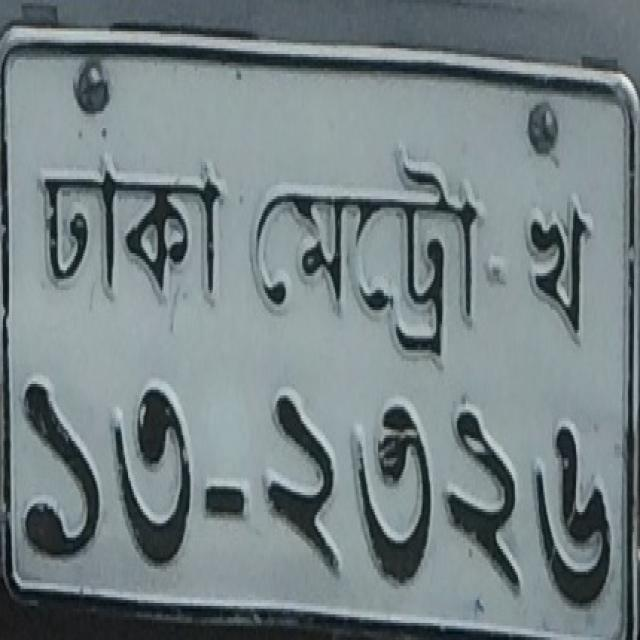cng: (250, 144, 484, 359)
numberplate: (1, 19, 637, 637)
